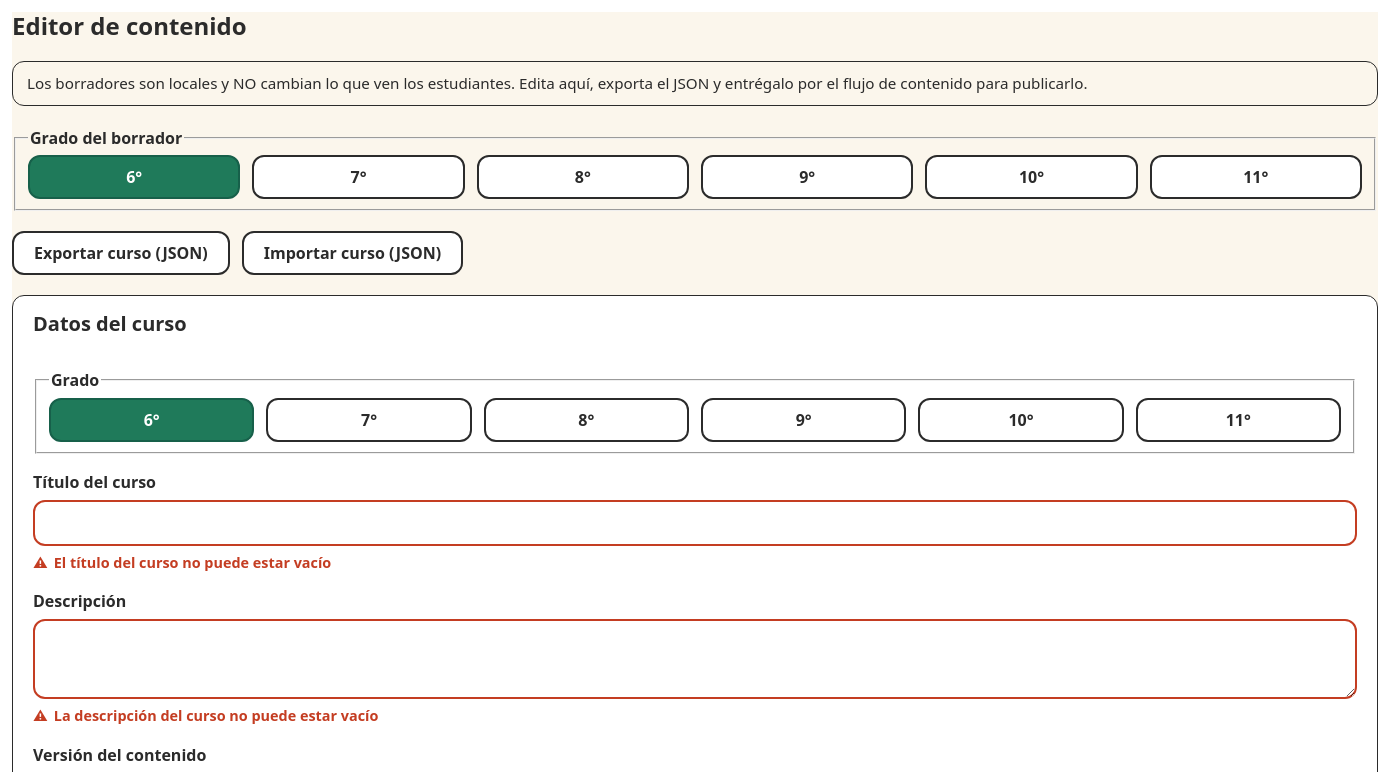
EditorContenido › exportar un borrador vacío (inválido) no descarga y avisa
Expected: the text "Los borradores son locales" is shown, [27,73,1088,93]
// El curso recién creado está vacío (sin título ni unidades): no valida.
Click the button "Exportar curso (JSON)" at (121,253), box [12,231,230,275]
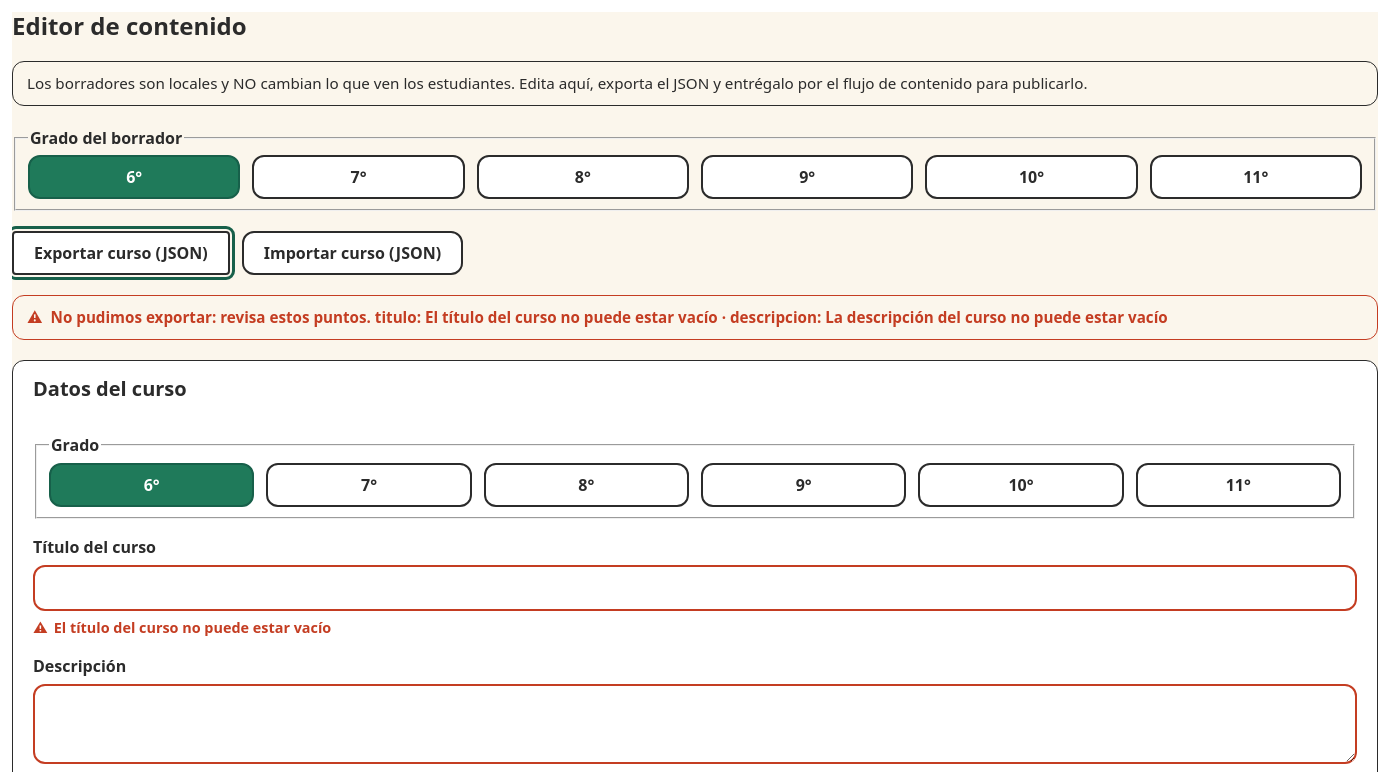
Result: the text "No pudimos exportar" is shown at [51,307,1168,327]
